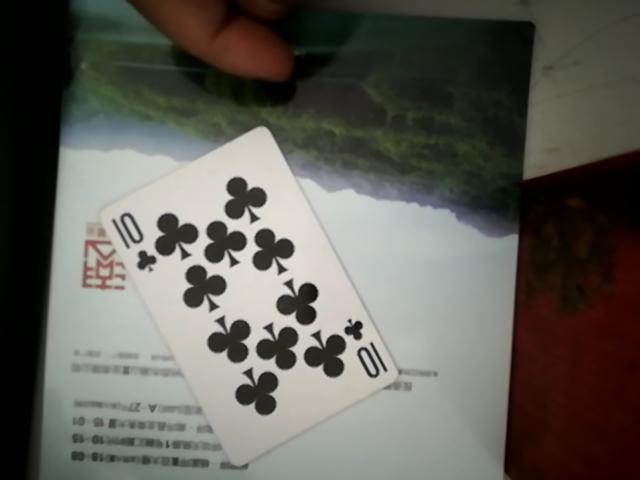mh 10: (100, 118, 390, 464)
